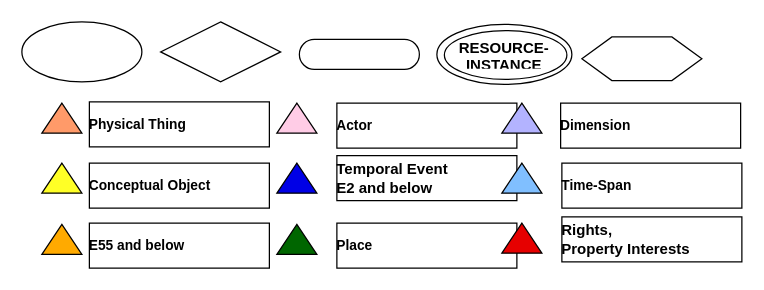
This 764x290 diagram has some shape labels left out. Each missing label, with the box of its shape:
GEO-JSON/ FILE LIST: (581, 36, 702, 81)
LITERAL: (298, 38, 419, 69)
NODE: (21, 21, 142, 82)
TYPE: (159, 21, 281, 82)
